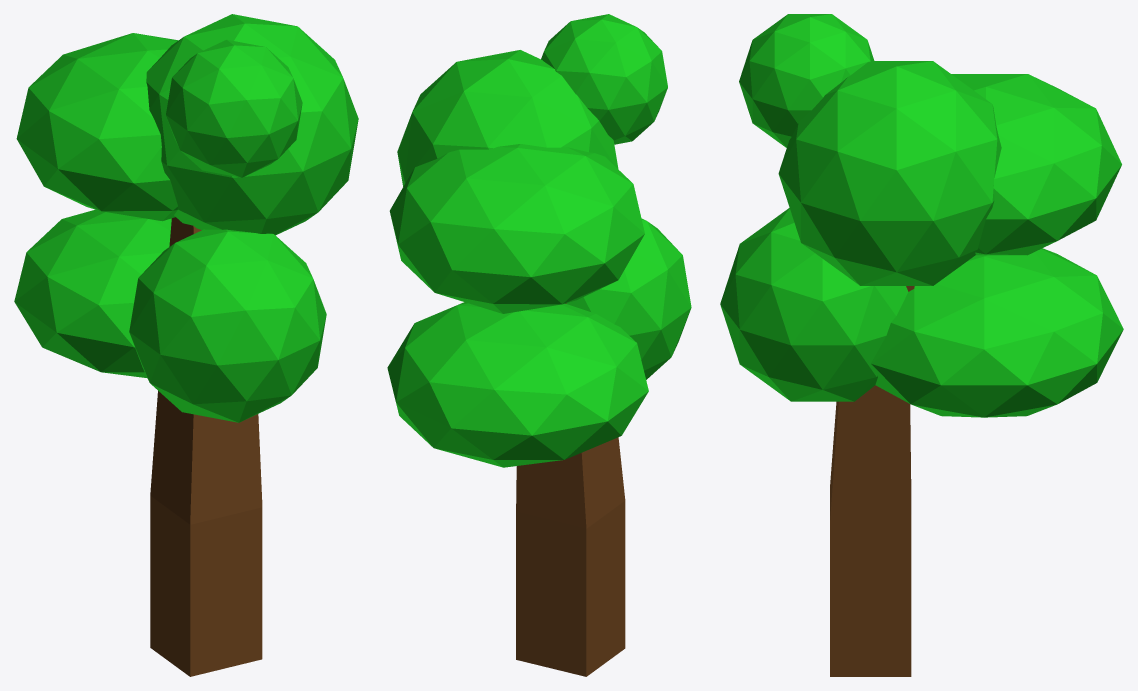
File: Tree3.fbx
3 views of the same model, side by side, from view 1: azimuth 30°, elevation 25°; view 2: azimuth 150°, elevation 25°; view 3: azimuth 270°, elevation 25° (orthographic). The views are drawn at different scales.
Visible parts, largest first — view 1: Tree3; view 2: Tree3; view 3: Tree3.
Part boxes in pixels (bbox=[...]): Tree3: bbox=[14, 14, 358, 676]; Tree3: bbox=[387, 14, 691, 676]; Tree3: bbox=[720, 14, 1123, 676].
Size of the model in its own units: 144 by 332 by 189.
